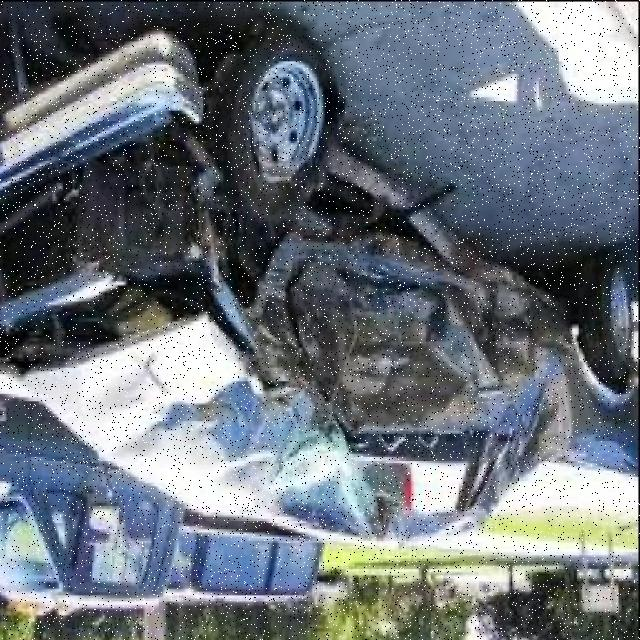damage: (0, 107, 639, 539)
